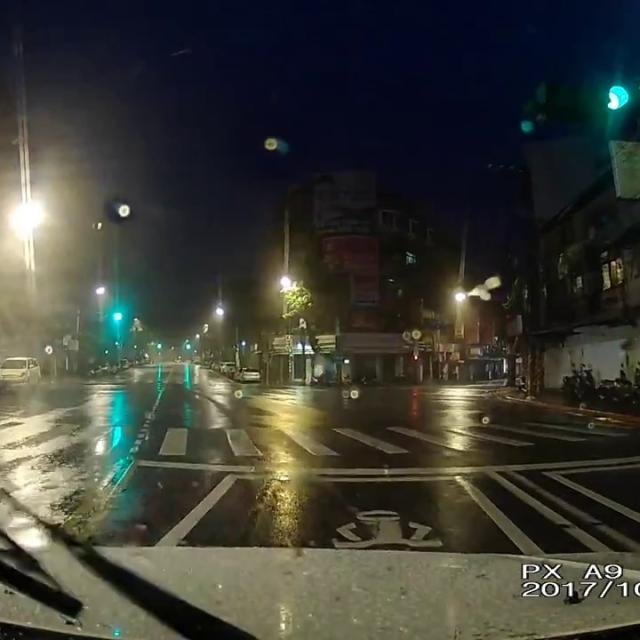Car: (0, 355, 41, 392), (231, 365, 260, 382), (215, 360, 236, 373)
